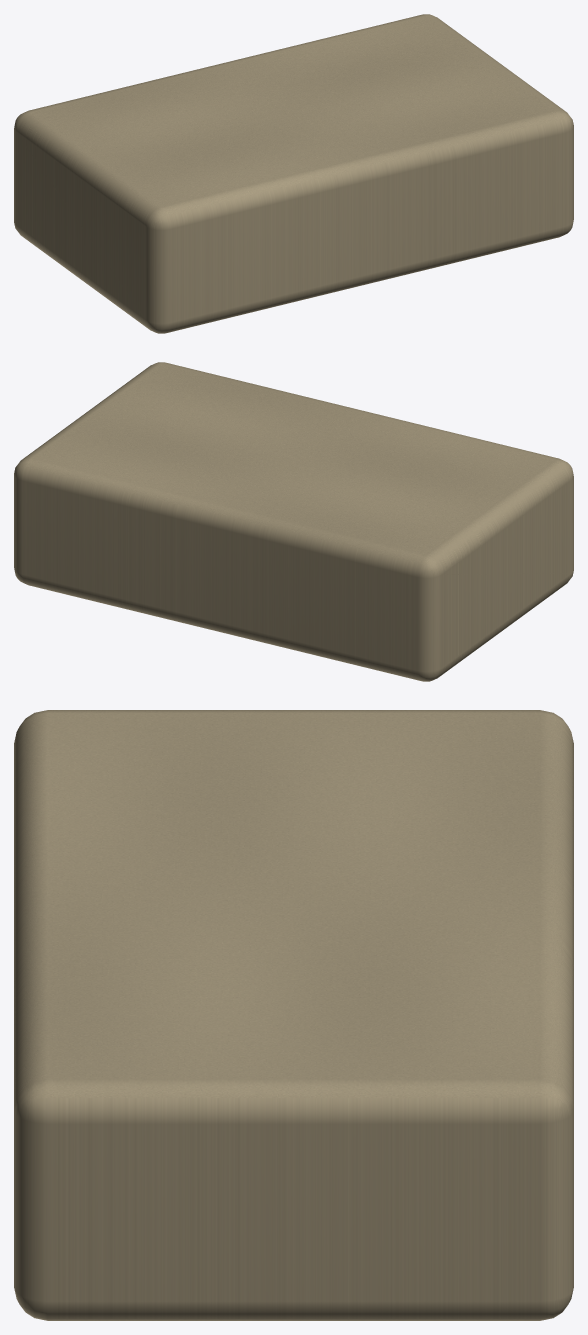
Rendered from limestone-coping.glb.
The picture shows the model from 3 angles, top to bottom: view 1: azimuth 30°, elevation 25°; view 2: azimuth 150°, elevation 25°; view 3: azimuth 270°, elevation 25°; orthographic projection. The views are drawn at different scales.
Visible parts, largest first — view 1: rounded-coping-stone; view 2: rounded-coping-stone; view 3: rounded-coping-stone.
Part boxes in pixels (x1=…): rounded-coping-stone: x1=14, y1=14, x2=573, y2=333; rounded-coping-stone: x1=14, y1=362, x2=573, y2=681; rounded-coping-stone: x1=14, y1=710, x2=573, y2=1320.
Size of the model in its own units: 0.497 by 0.14 by 0.298.
Materials: 1 (1 with a texture image).
